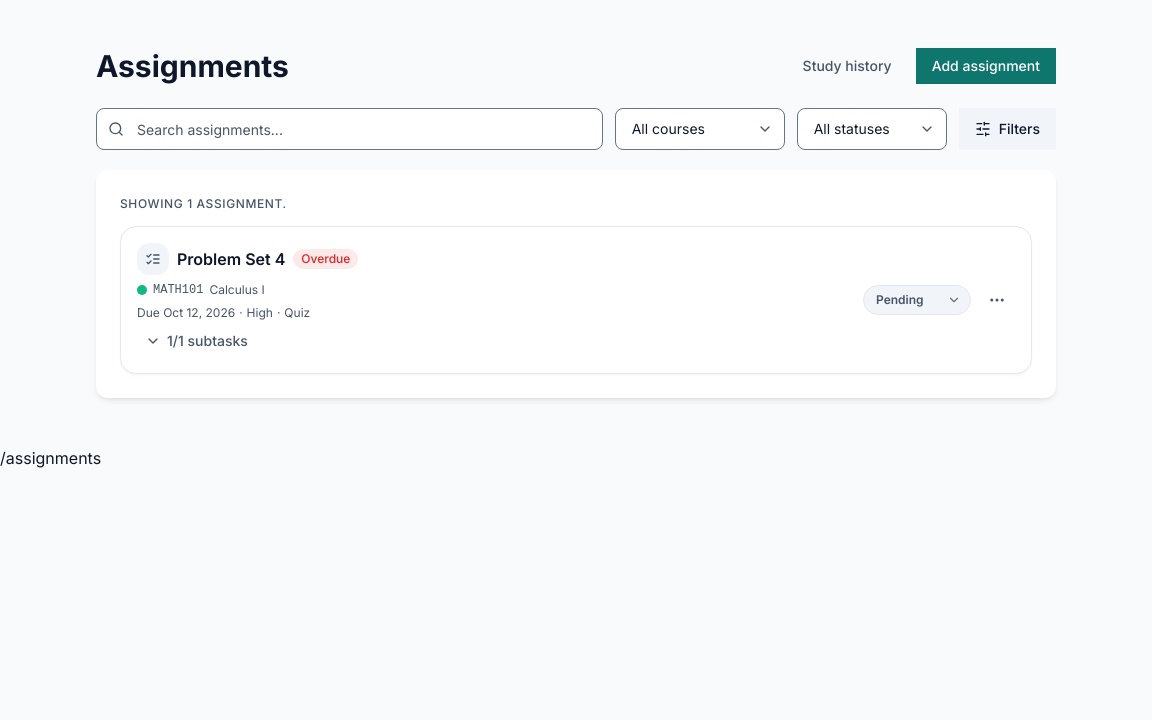
Test: AssignmentsPage list creation (SP-124C AC 1–8) › prefills the form course with the active course filter
Check: the button "Problem Set 4" is shown, box [177, 247, 285, 271]
Select "MATH101 Calculus I" in the dropdown named "Course": (700, 129) [615, 108, 785, 150]
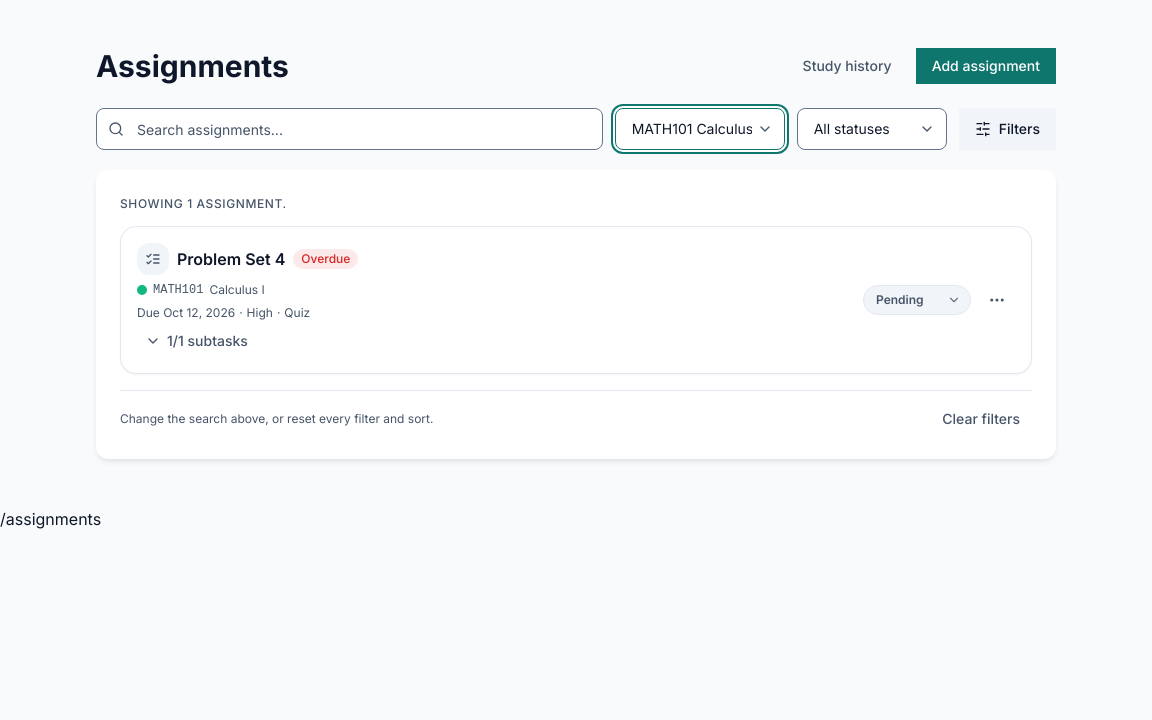
Click the button "Add assignment": (986, 66) [916, 48, 1056, 84]
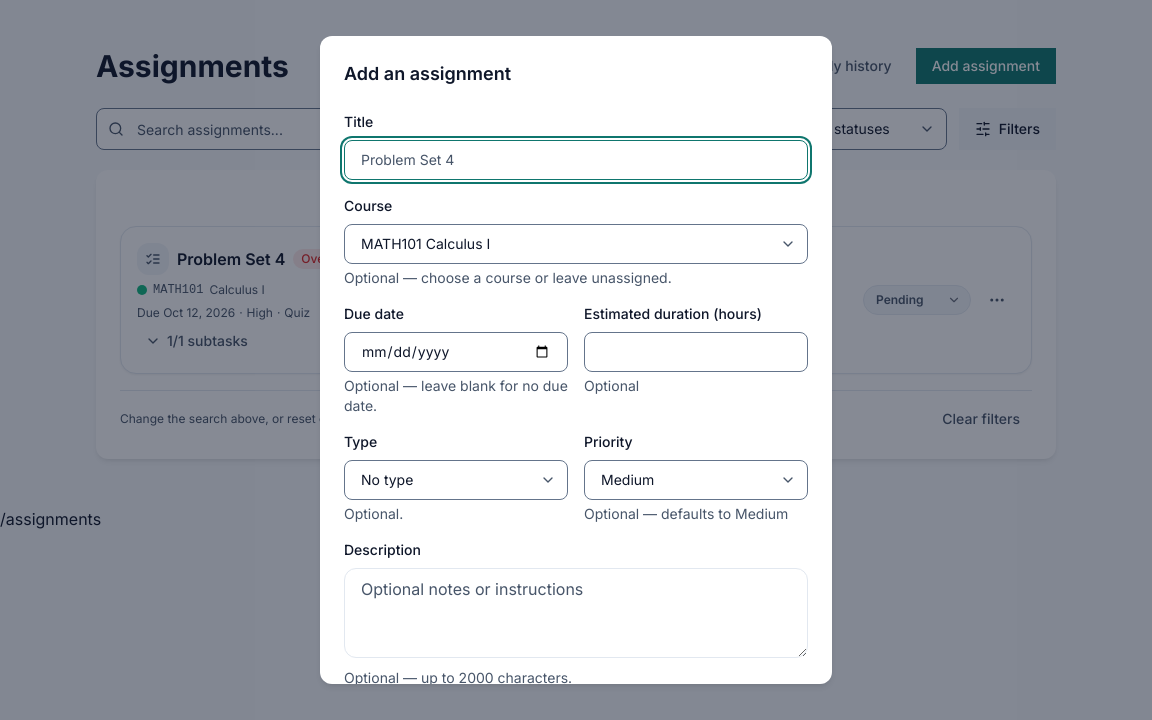
Check: the dropdown labelled "Course" shows "MATH101 Calculus I", box [344, 224, 808, 264]
